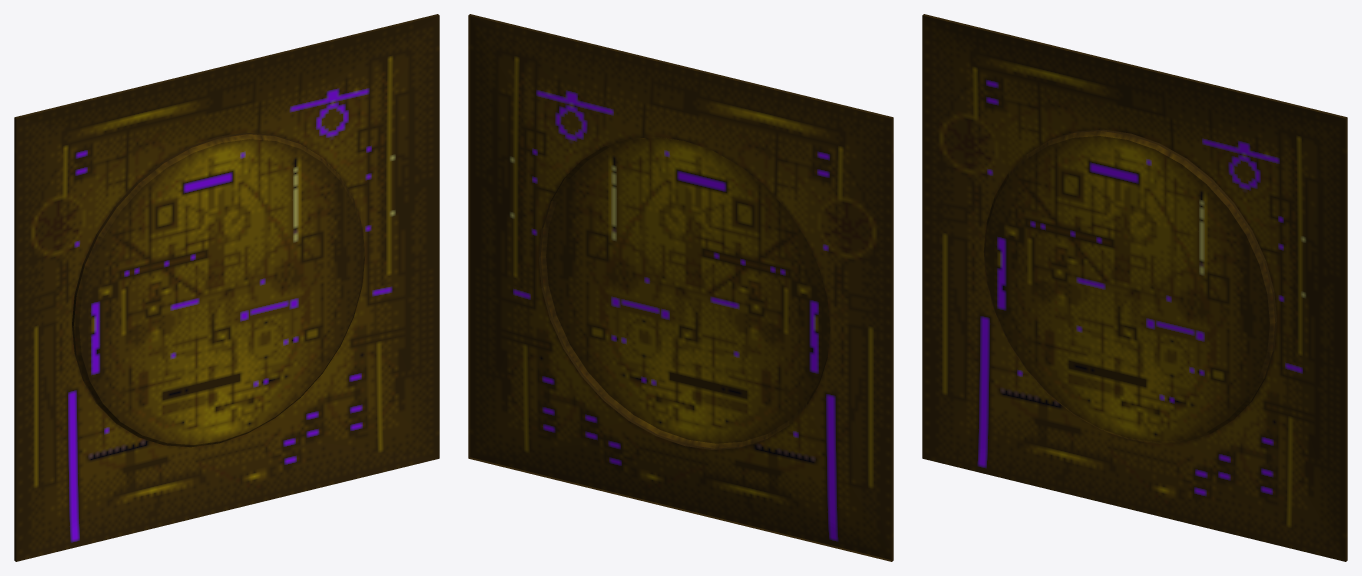
File: bridg1_5.fbx
3 renders of one model, left to right at view 1: azimuth 30°, elevation 25°; view 2: azimuth 150°, elevation 25°; view 3: azimuth 330°, elevation 25°, orthographic.
Visible parts, largest first — view 1: bridg1_5_mesh; view 2: bridg1_5_mesh; view 3: bridg1_5_mesh.
Boxes of the visible parts, x1,y1,x2,y2 form: bridg1_5_mesh: [14, 14, 439, 561]; bridg1_5_mesh: [468, 14, 893, 561]; bridg1_5_mesh: [922, 14, 1347, 561].
Bounding box in the file's own units: 256 × 256 × 4.
